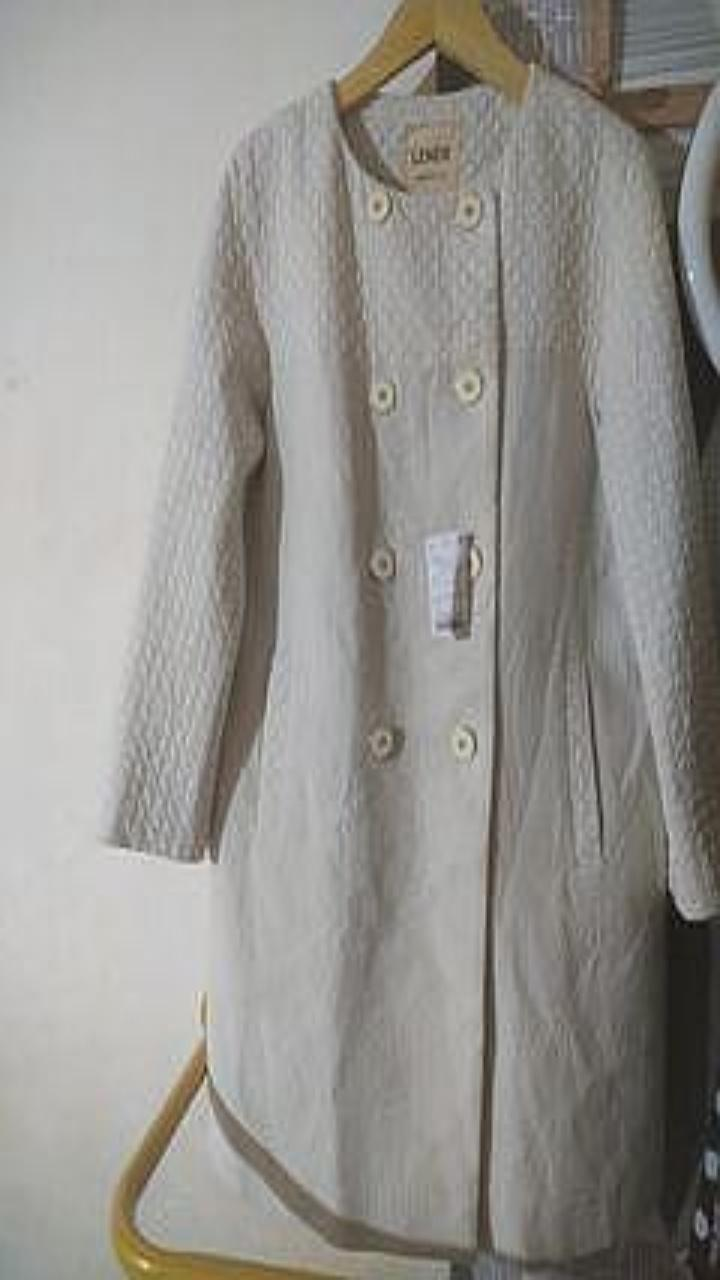Coat: (100, 64, 719, 1262)
